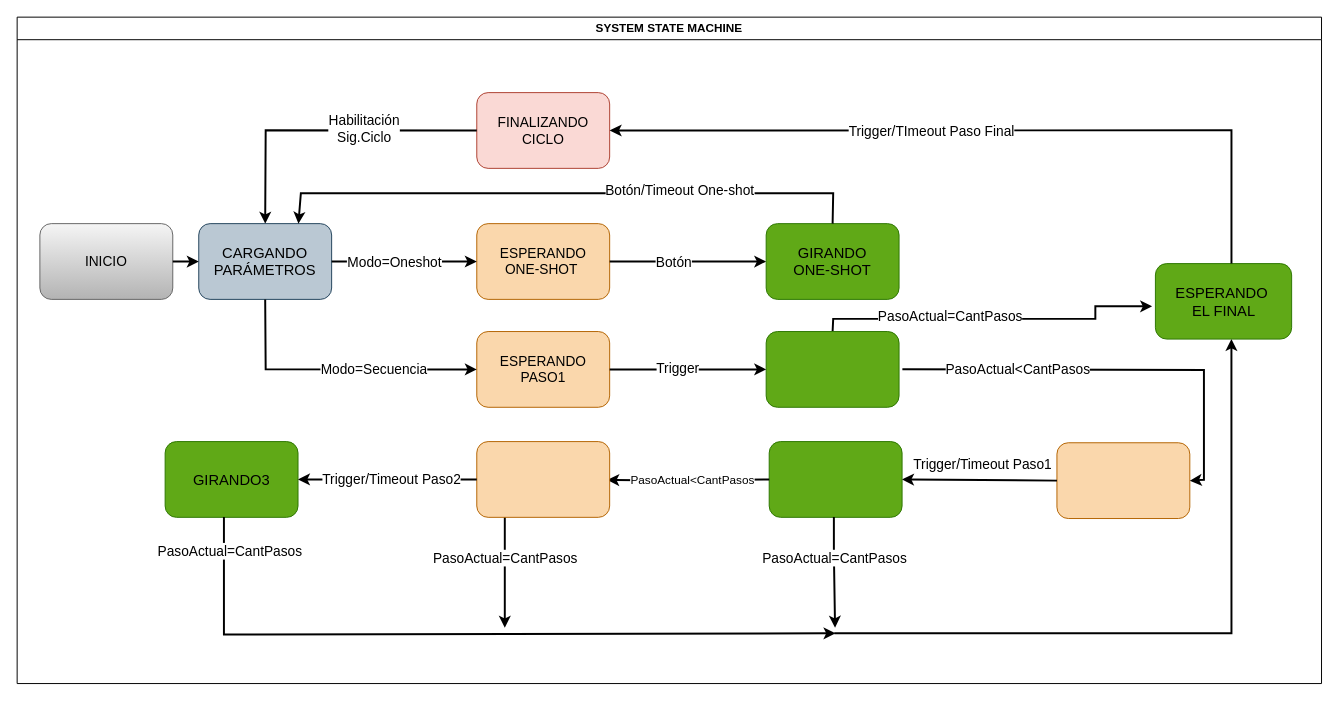
Image size: 1339x701. Some labels were removed from this diagram. The shapes that lost their labels are listed below. From the top down, each one's box as (x1, y1, x2, y2) in pixels, then its label:
(765, 331, 899, 407): GIRANDO1
(476, 441, 610, 517): ESPERANDO PASO3
(768, 441, 902, 517): GIRANDO2
(1056, 442, 1190, 519): ESPERANDO PASO2
